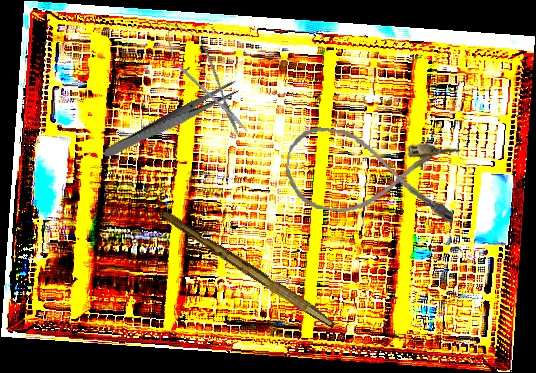Cannula: (281, 123, 463, 228)
Dressing Forceps: (101, 78, 242, 163)
Micro Scissor: (153, 12, 259, 145)
Scalpel Handle: (158, 209, 340, 329)
